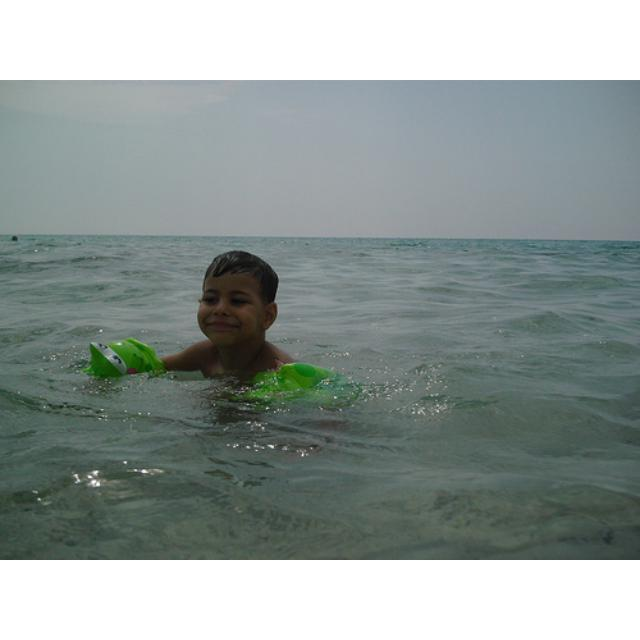human: (157, 249, 296, 382)
